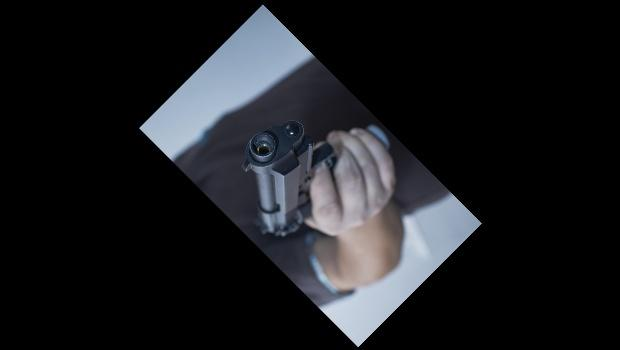weapon: (238, 117, 395, 242)
